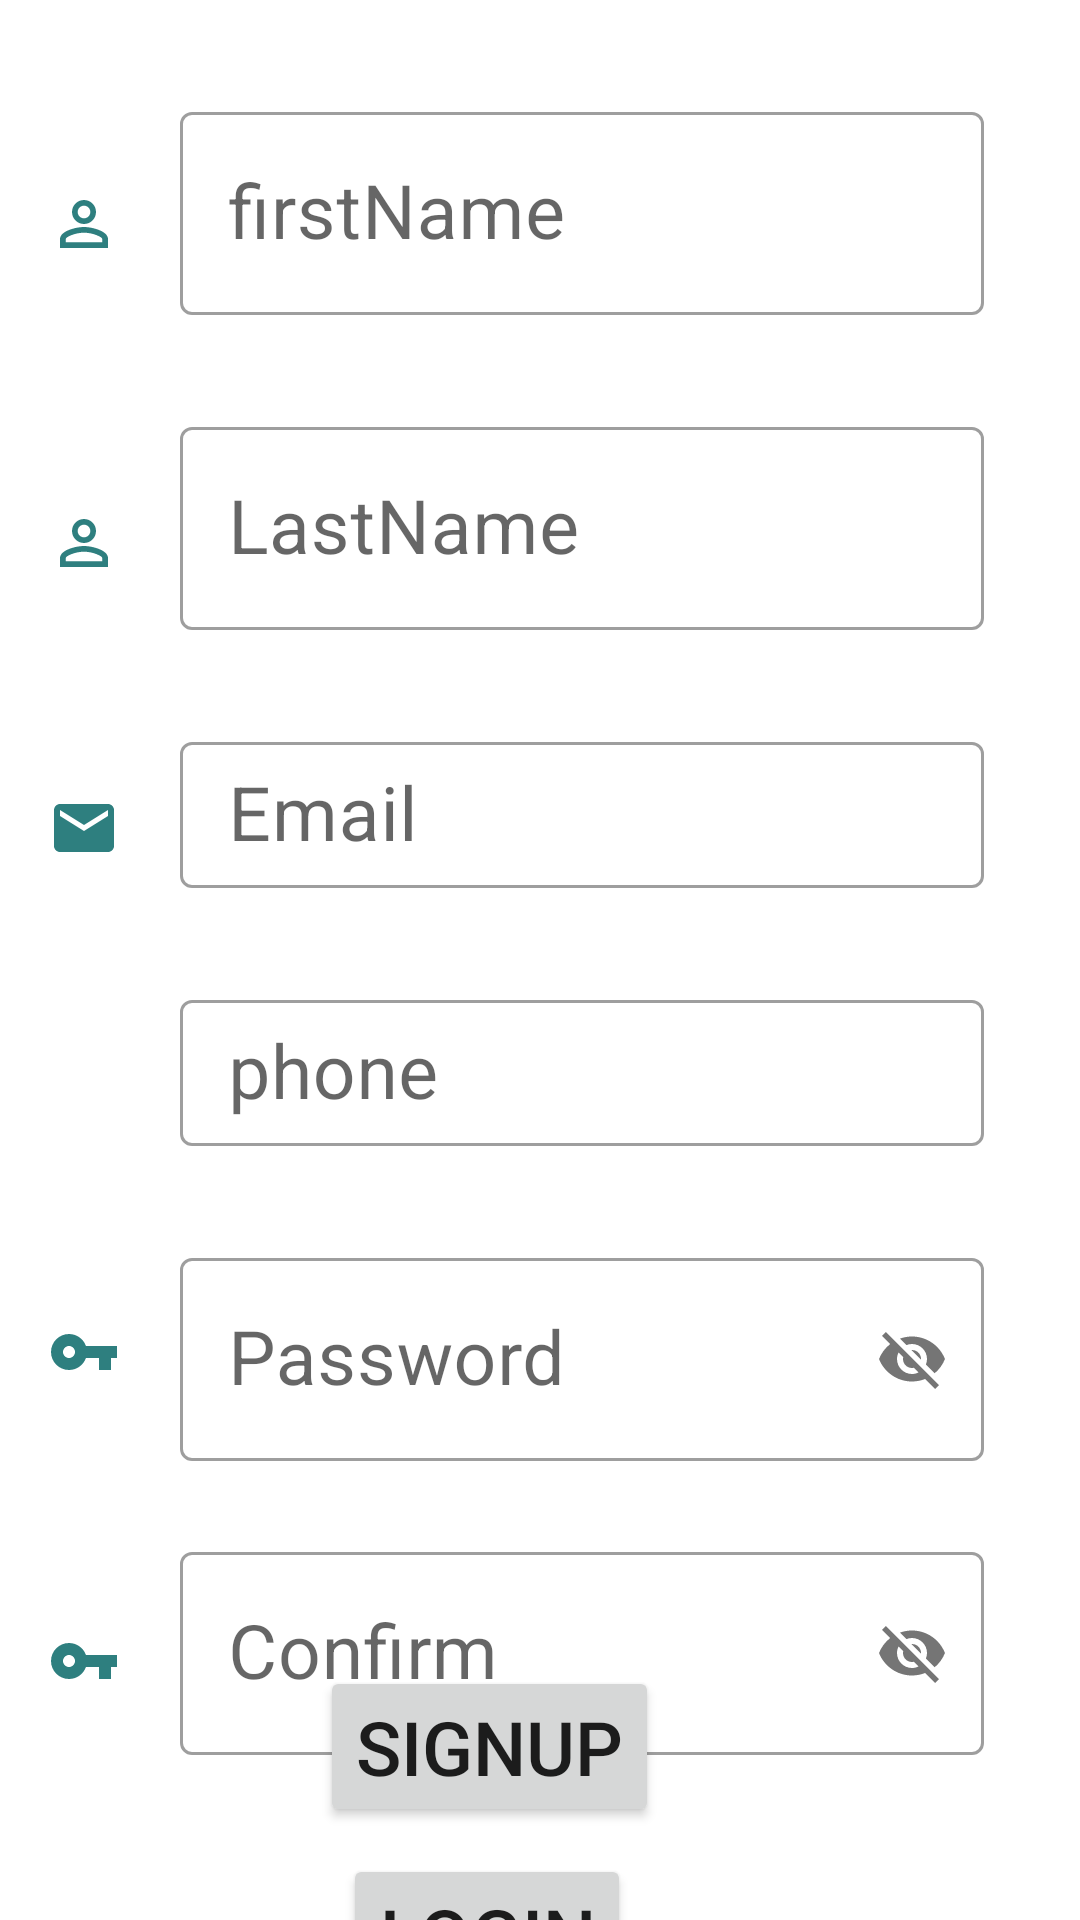

Locate icon controls on the screen. Image size 1080px×1920px, boxes as (x1, y1, x2, y2).
perm identity: (60, 200, 108, 248), (60, 519, 108, 567)
vpn key: (51, 1334, 117, 1370), (51, 1643, 117, 1679)
